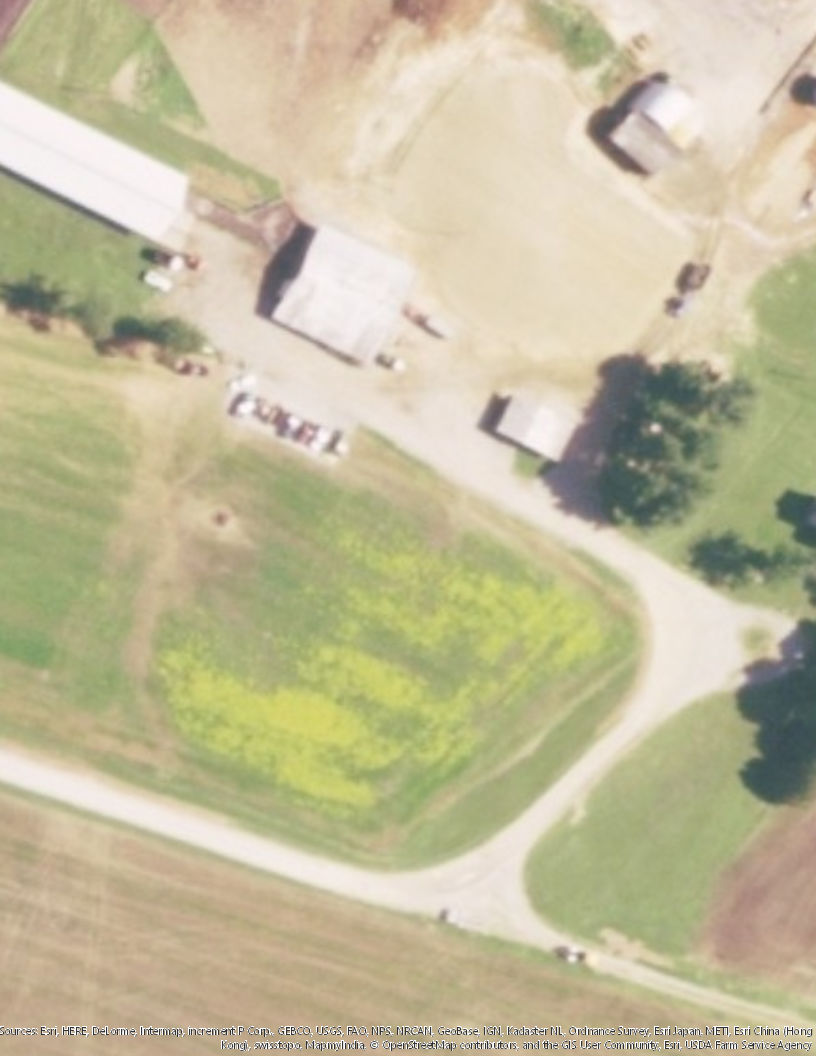cafo: (1, 71, 203, 247)
